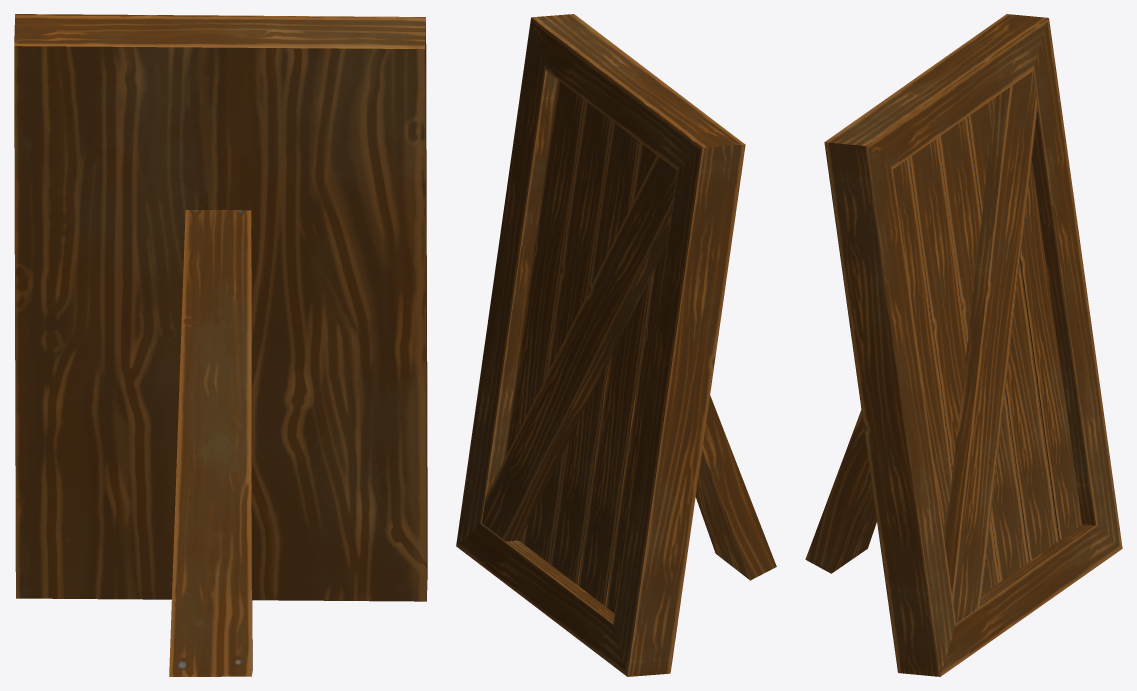
The picture shows the model from 3 angles, left to right: view 1: azimuth 30°, elevation 25°; view 2: azimuth 150°, elevation 25°; view 3: azimuth 270°, elevation 25°; orthographic projection. The views are drawn at different scales.
Parts seen in each view (by area): view 1: Cube.1878; view 2: Cube.1878; view 3: Cube.1878.
Boxes of the visible parts, x1=… form: Cube.1878: x1=14, y1=14, x2=427, y2=676; Cube.1878: x1=456, y1=14, x2=776, y2=676; Cube.1878: x1=805, y1=14, x2=1122, y2=676.
Size of the model in its own units: 221 by 339 by 188.
1 material, 1 textured.
